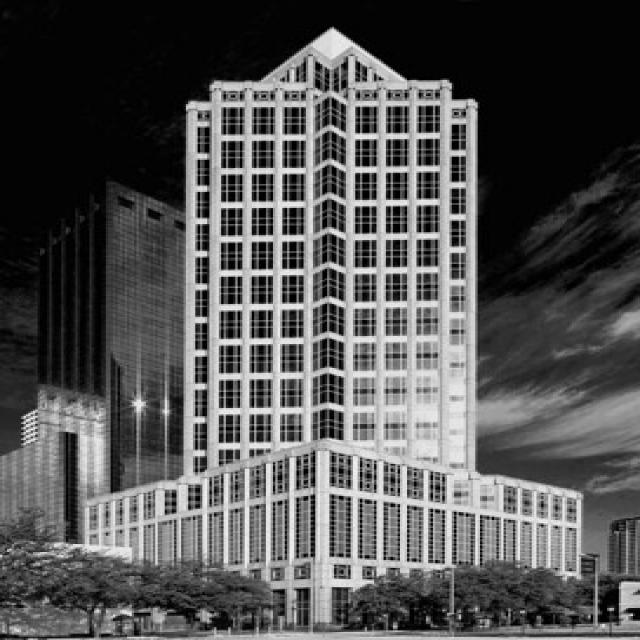Normal_building: (179, 20, 485, 580)
